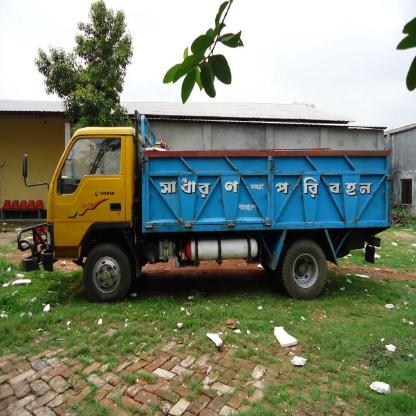truck: (37, 121, 393, 306)
